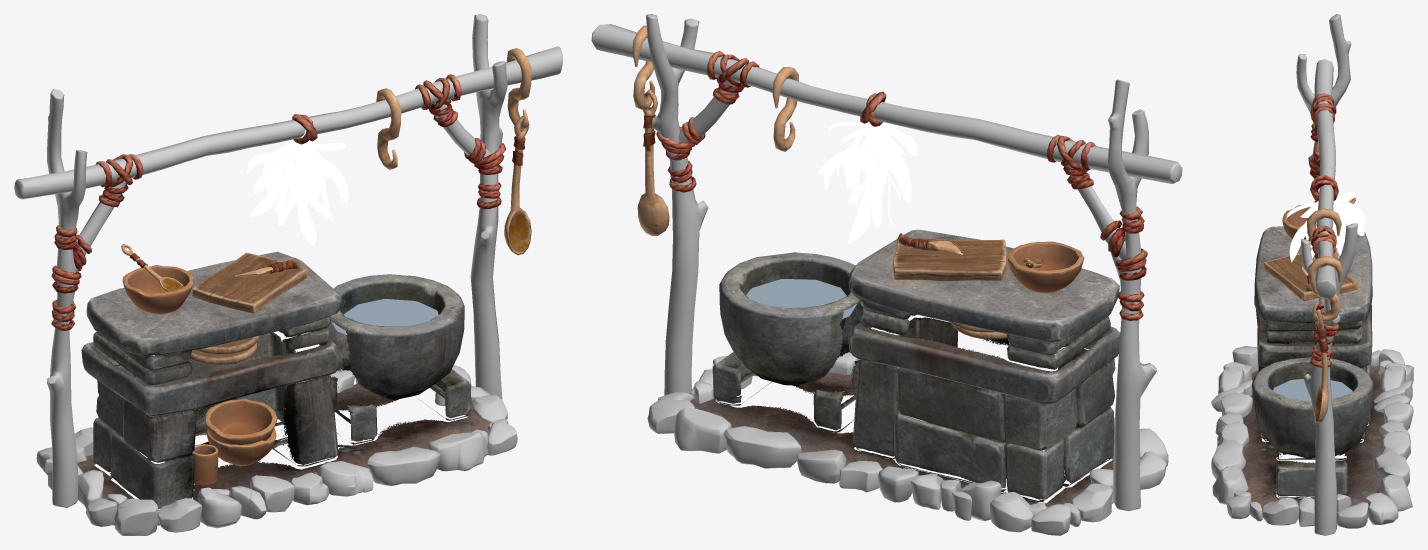
3 views of the same model, side by side, from view 1: azimuth 30°, elevation 25°; view 2: azimuth 150°, elevation 25°; view 3: azimuth 270°, elevation 25° (orthographic). The views are drawn at different scales.
Parts seen in each view (by area): view 1: SM_Cooking_Range_02_LOD0; view 2: SM_Cooking_Range_02_LOD0; view 3: SM_Cooking_Range_02_LOD0.
Part boxes in pixels (box(x1,y1,x2,y2)): SM_Cooking_Range_02_LOD0: box(14, 14, 562, 535); SM_Cooking_Range_02_LOD0: box(591, 14, 1182, 535); SM_Cooking_Range_02_LOD0: box(1211, 14, 1413, 535).
Size of the model in its own units: 2.5 by 1.82 by 0.9592.
